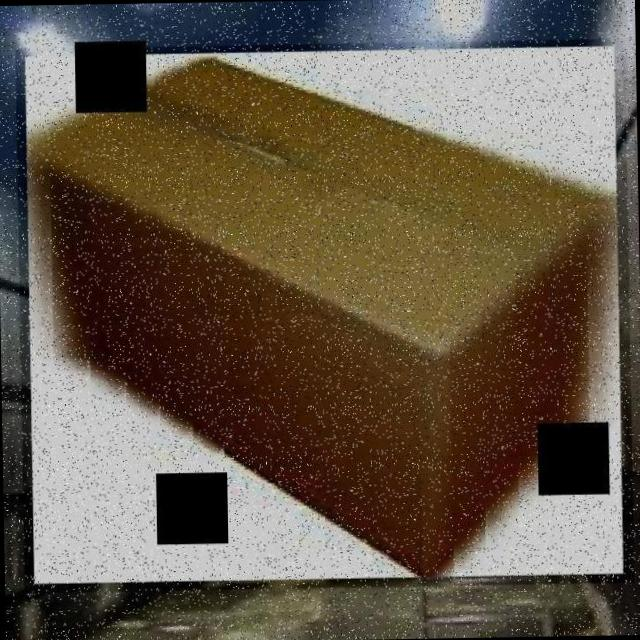box: (15, 38, 634, 593)
